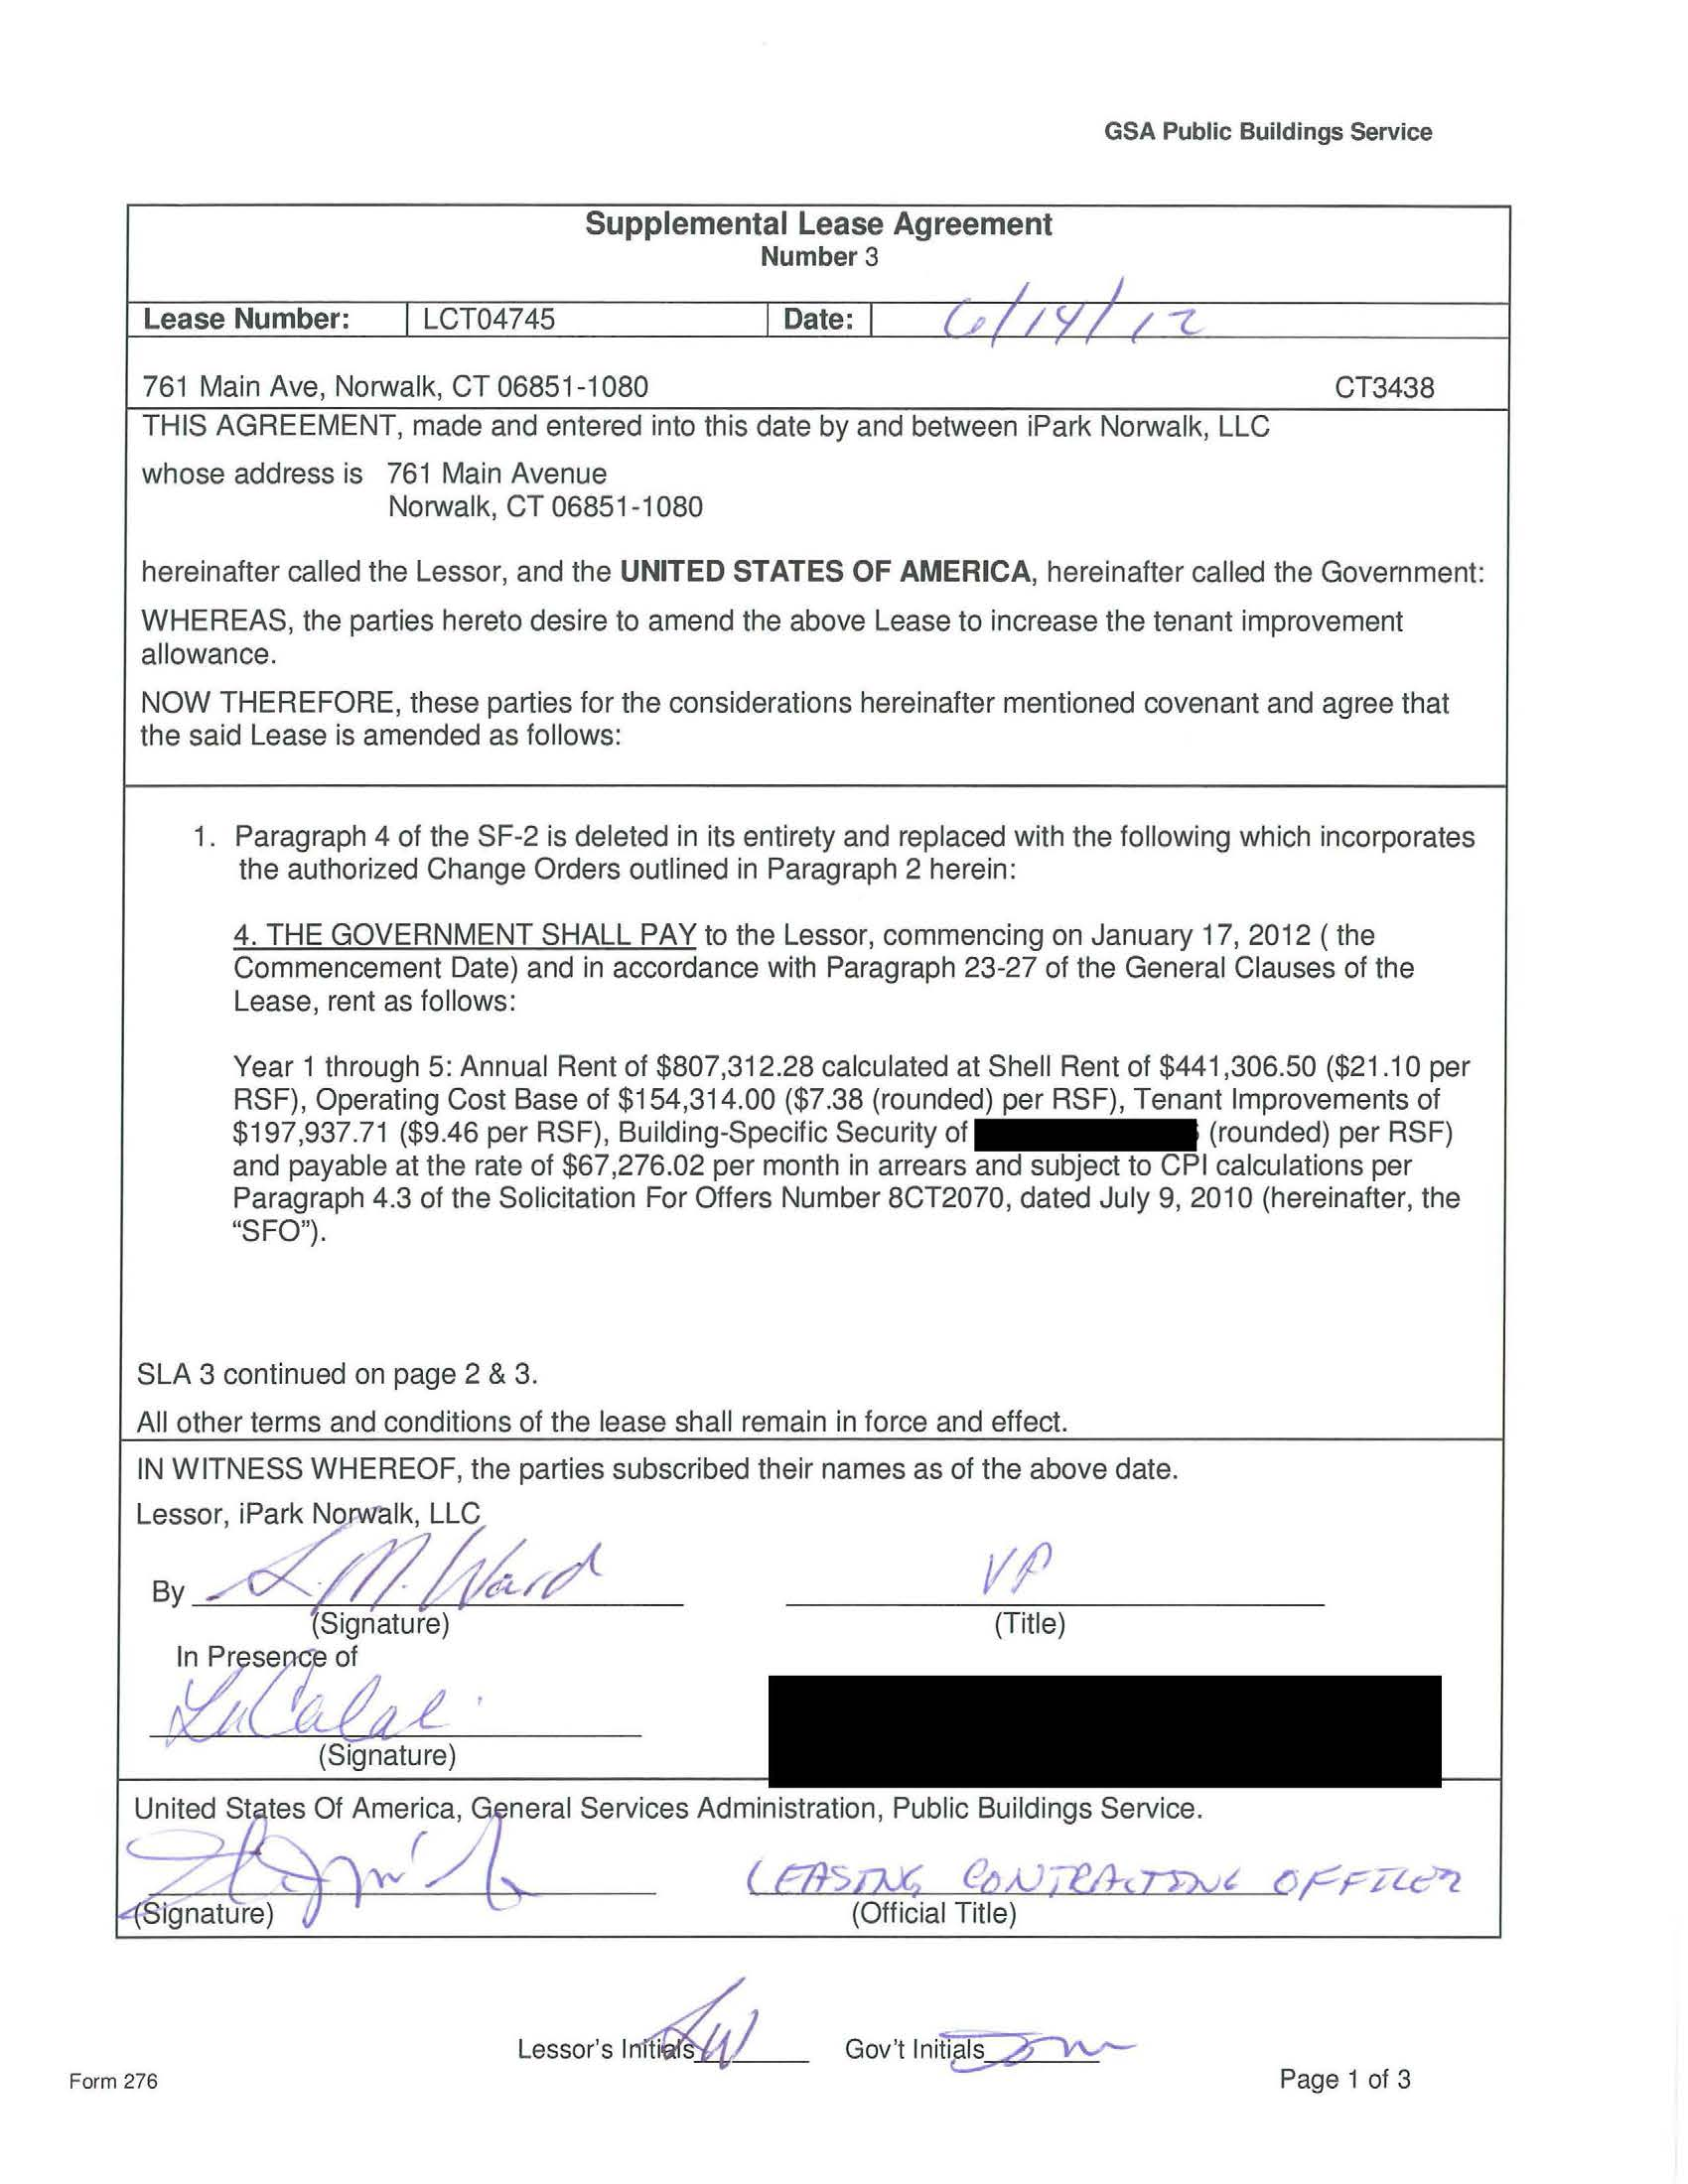handwritten: (723, 1842, 1475, 1907), (108, 1817, 548, 1920), (207, 1532, 624, 1622), (144, 1661, 488, 1744), (949, 1991, 1144, 2085), (929, 298, 1229, 351), (970, 1517, 1078, 1610), (663, 1977, 773, 2067)
